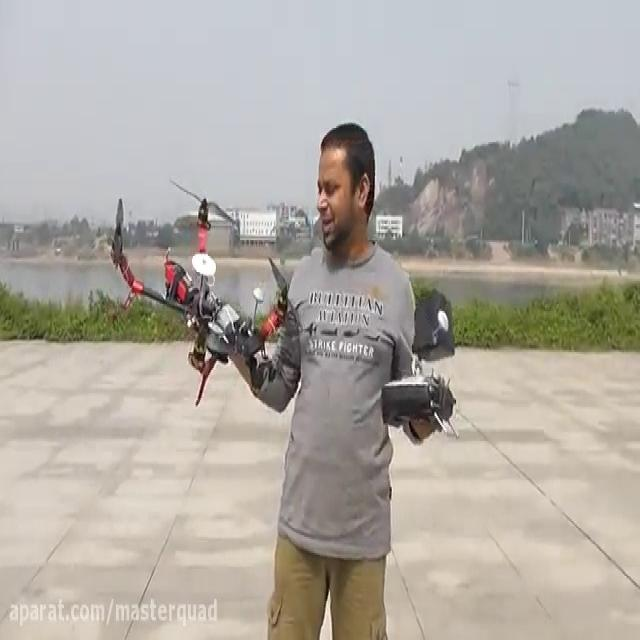drone: (109, 174, 301, 407)
